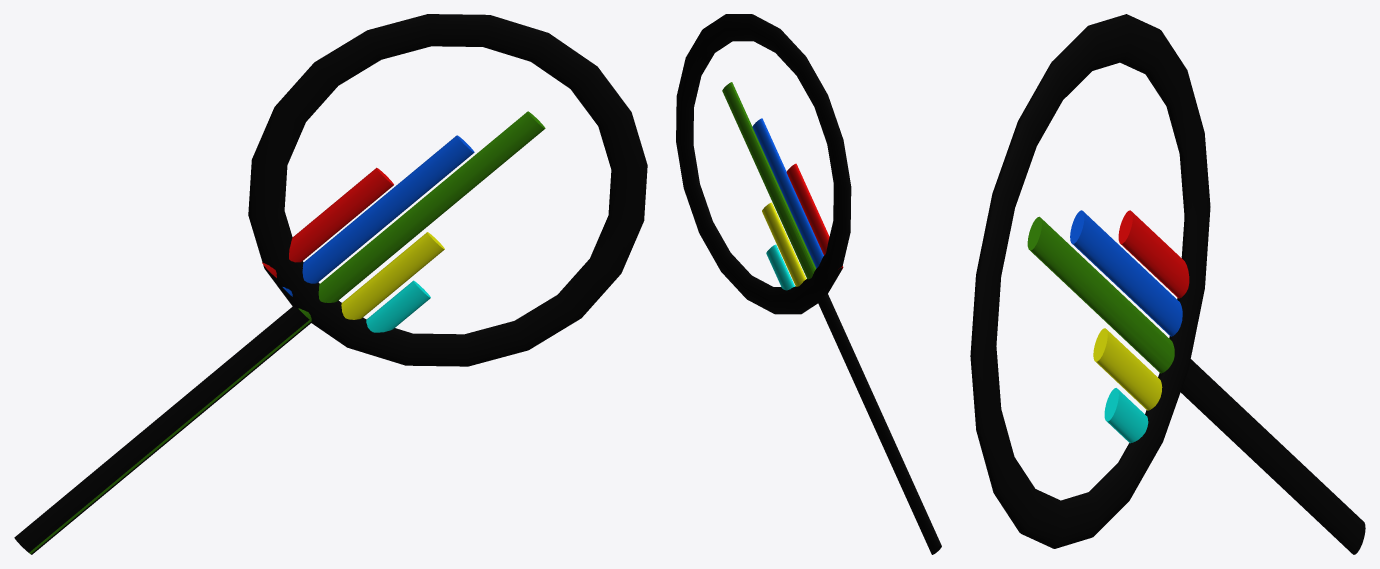
File: MAGNIFYING GLASS DANIELA.fbx
3 views of the same model, side by side, from view 1: azimuth 30°, elevation 25°; view 2: azimuth 150°, elevation 25°; view 3: azimuth 270°, elevation 25° (orthographic). The views are drawn at different scales.
Visible parts, largest first — view 1: MAGNIFYING_GLASS; view 2: MAGNIFYING_GLASS; view 3: MAGNIFYING_GLASS.
Boxes of the visible parts, x1,y1,x2,y2 form: MAGNIFYING_GLASS: [14, 14, 647, 554]; MAGNIFYING_GLASS: [676, 14, 941, 554]; MAGNIFYING_GLASS: [970, 14, 1365, 554].
Bounding box in the file's own units: 14.84 × 15.68 × 7.75.
